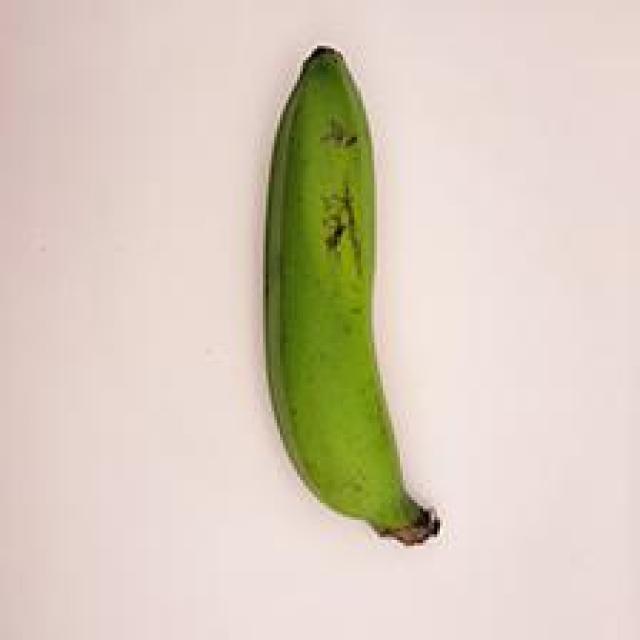Raw: (226, 25, 462, 568)
